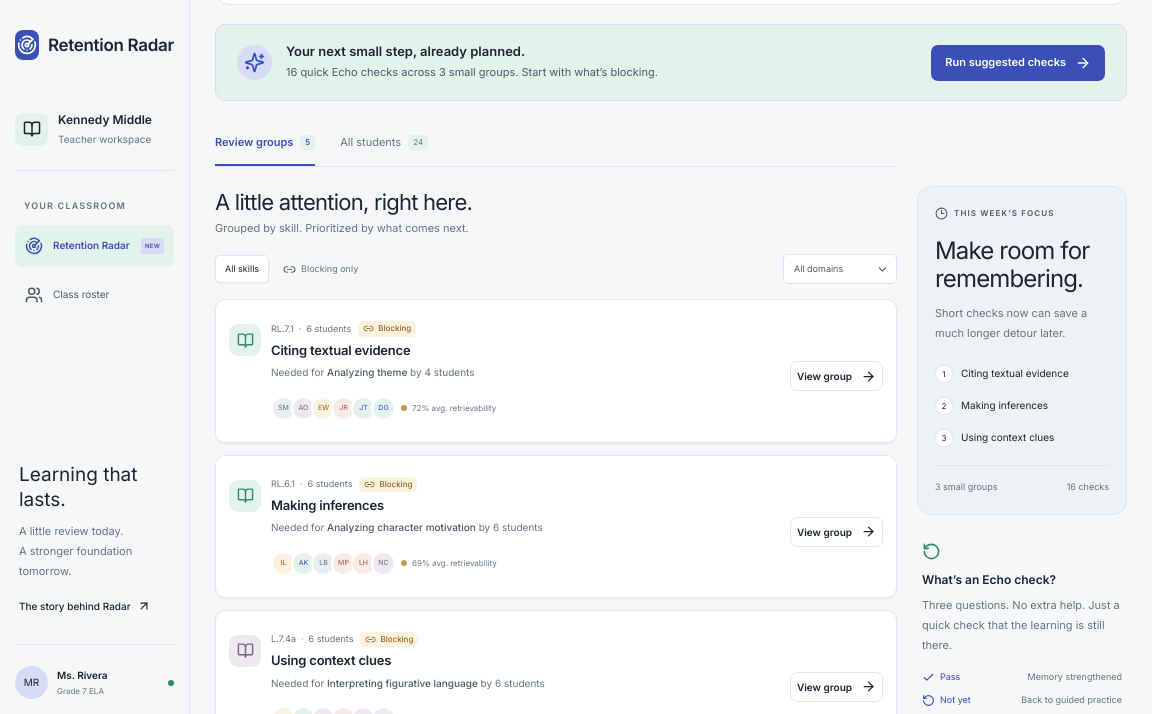
Test case: opens a group, submits an Echo, and invalidates query data
(page scrolled)
Click the button "View group" in the row of "Analyzing theme" at (836, 376), box [790, 361, 883, 391]
(page scrolled)
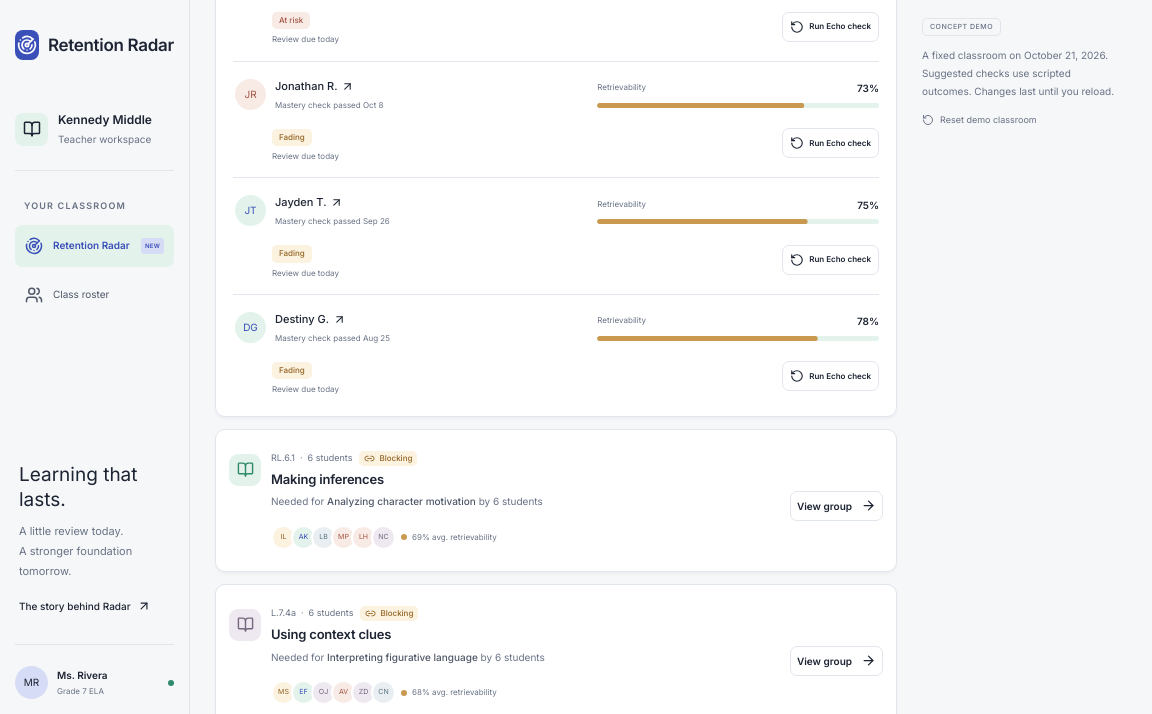
Click the button "Run Echo check" below "78" at (831, 376), box [782, 361, 879, 391]
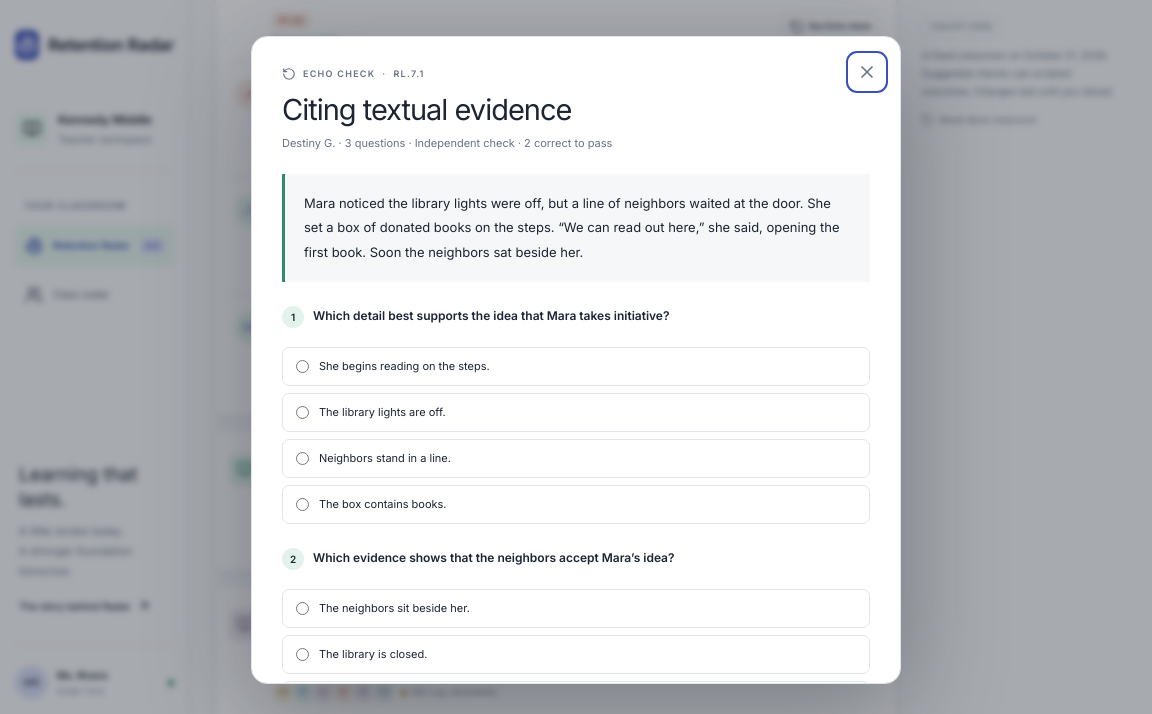
Click the radio button labelled "She begins reading on the steps." at (302, 366), box [296, 360, 309, 373]
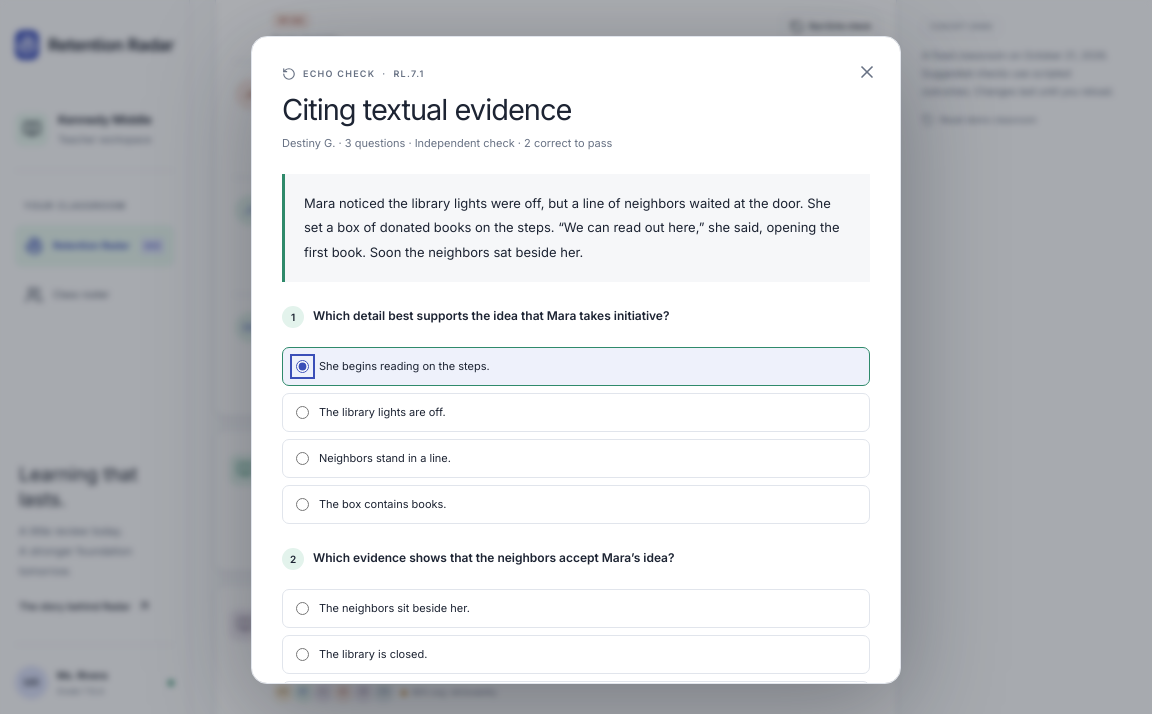
Click the radio button labelled "The neighbors sit beside her." at (302, 608), box [296, 602, 309, 615]
(page scrolled)
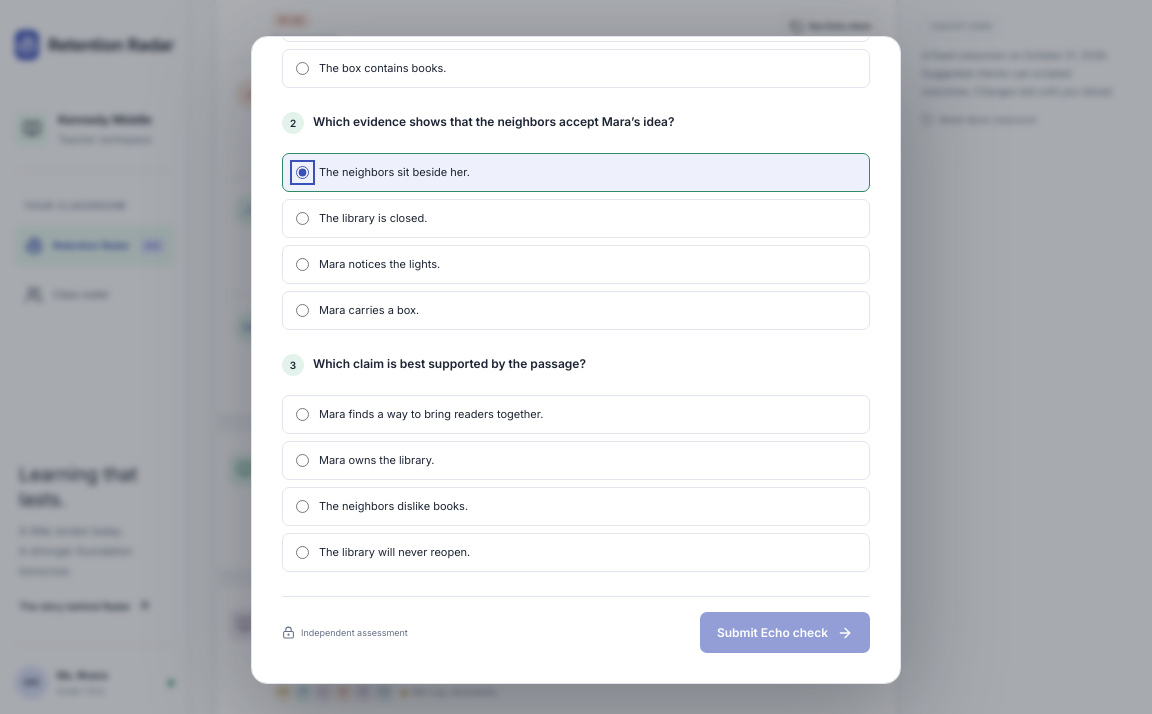
Click the radio button labelled "Mara finds a way to bring readers together." at (302, 415), box [296, 408, 309, 421]
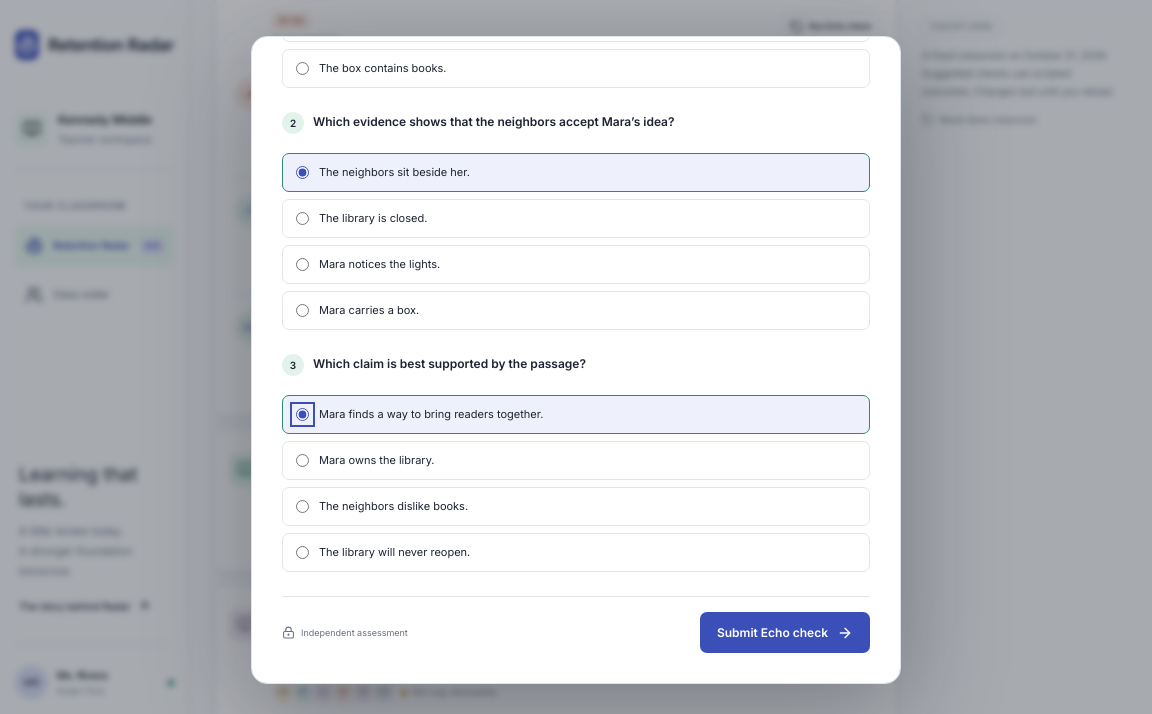
Click the button "Submit Echo check" at (785, 633), box [700, 612, 870, 653]
(page scrolled)
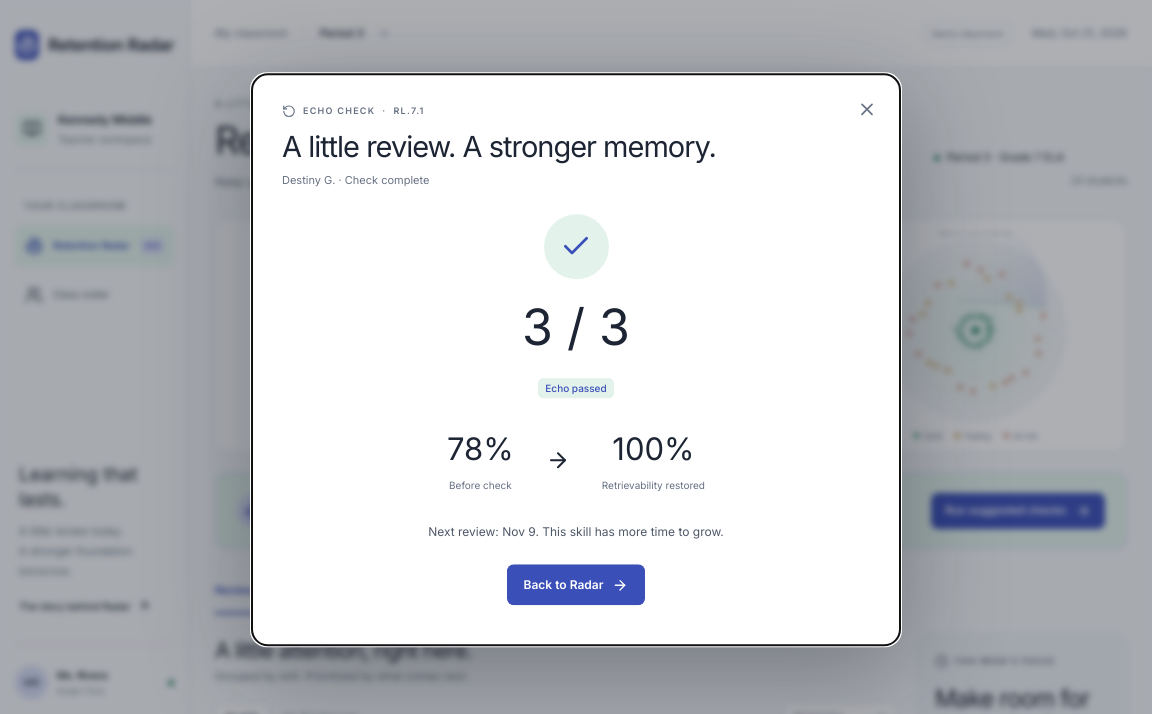
expect the text "3 / 3" is shown: met, box [522, 297, 630, 357]
expect the picture named "Class retention: 63%" is shown: met, box [243, 261, 463, 412]
